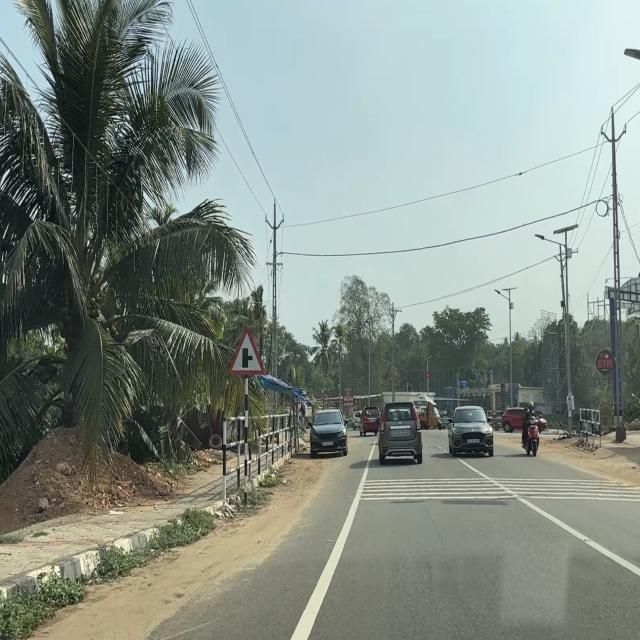SIDE_ROAD_RIGHT: (226, 324, 266, 376)
TURN_LEFT: (352, 398, 356, 405)
